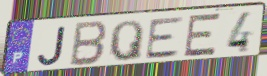4: (223, 10, 254, 54)
B: (67, 20, 109, 68)
E: (143, 15, 186, 61), (182, 12, 223, 59)
J: (37, 25, 68, 67)
Q: (108, 19, 145, 63)
